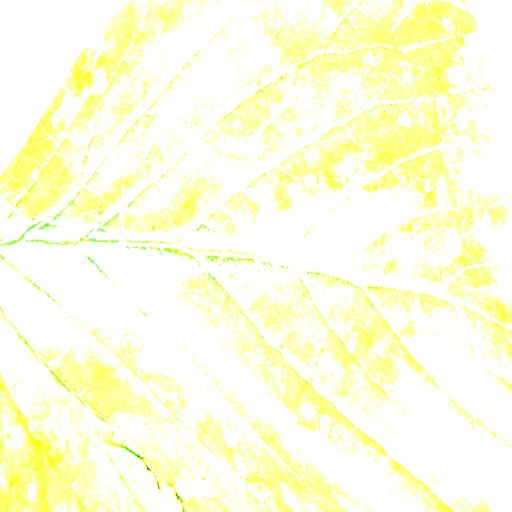Angular Leafspot: (0, 0, 511, 511)
